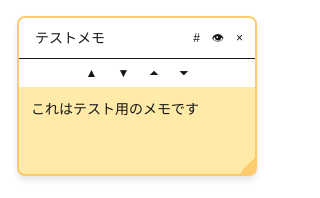
MemoWindow Component › 基本表示 › should display tags when tag button is clicked
Click the button titled "タグ": (196, 38) [189,26,204,50]
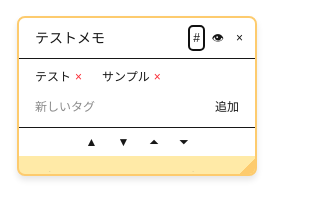
Expected: the text "テスト" is shown, [35,70,71,84]
Expected: the text "サンプル" is shown, [102,70,150,84]
